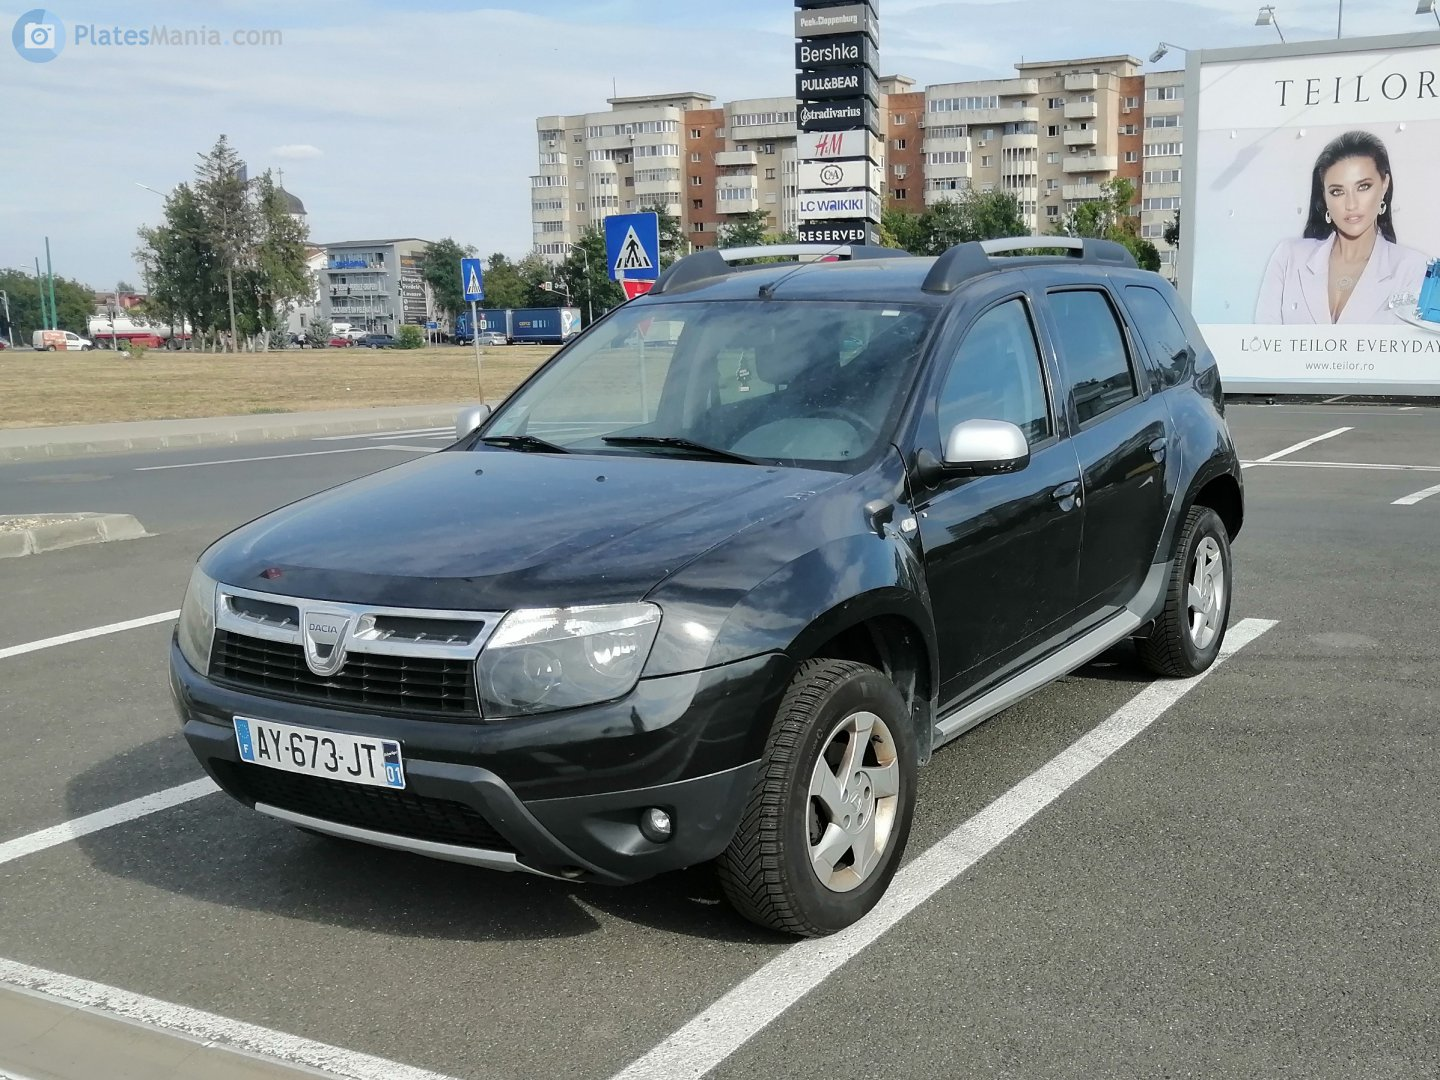licence plate: (229, 710, 412, 792)
